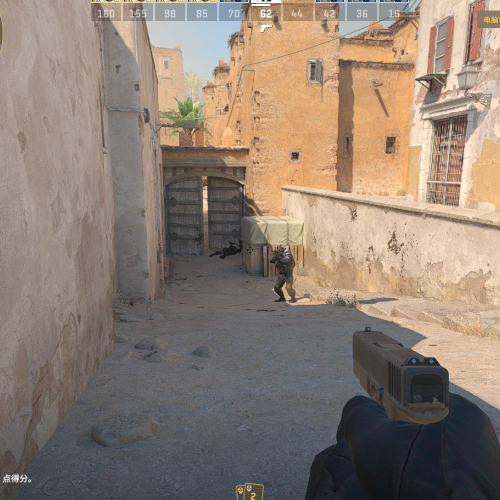ct_body: (269, 244, 298, 304)
ct_head: (275, 245, 285, 255)
